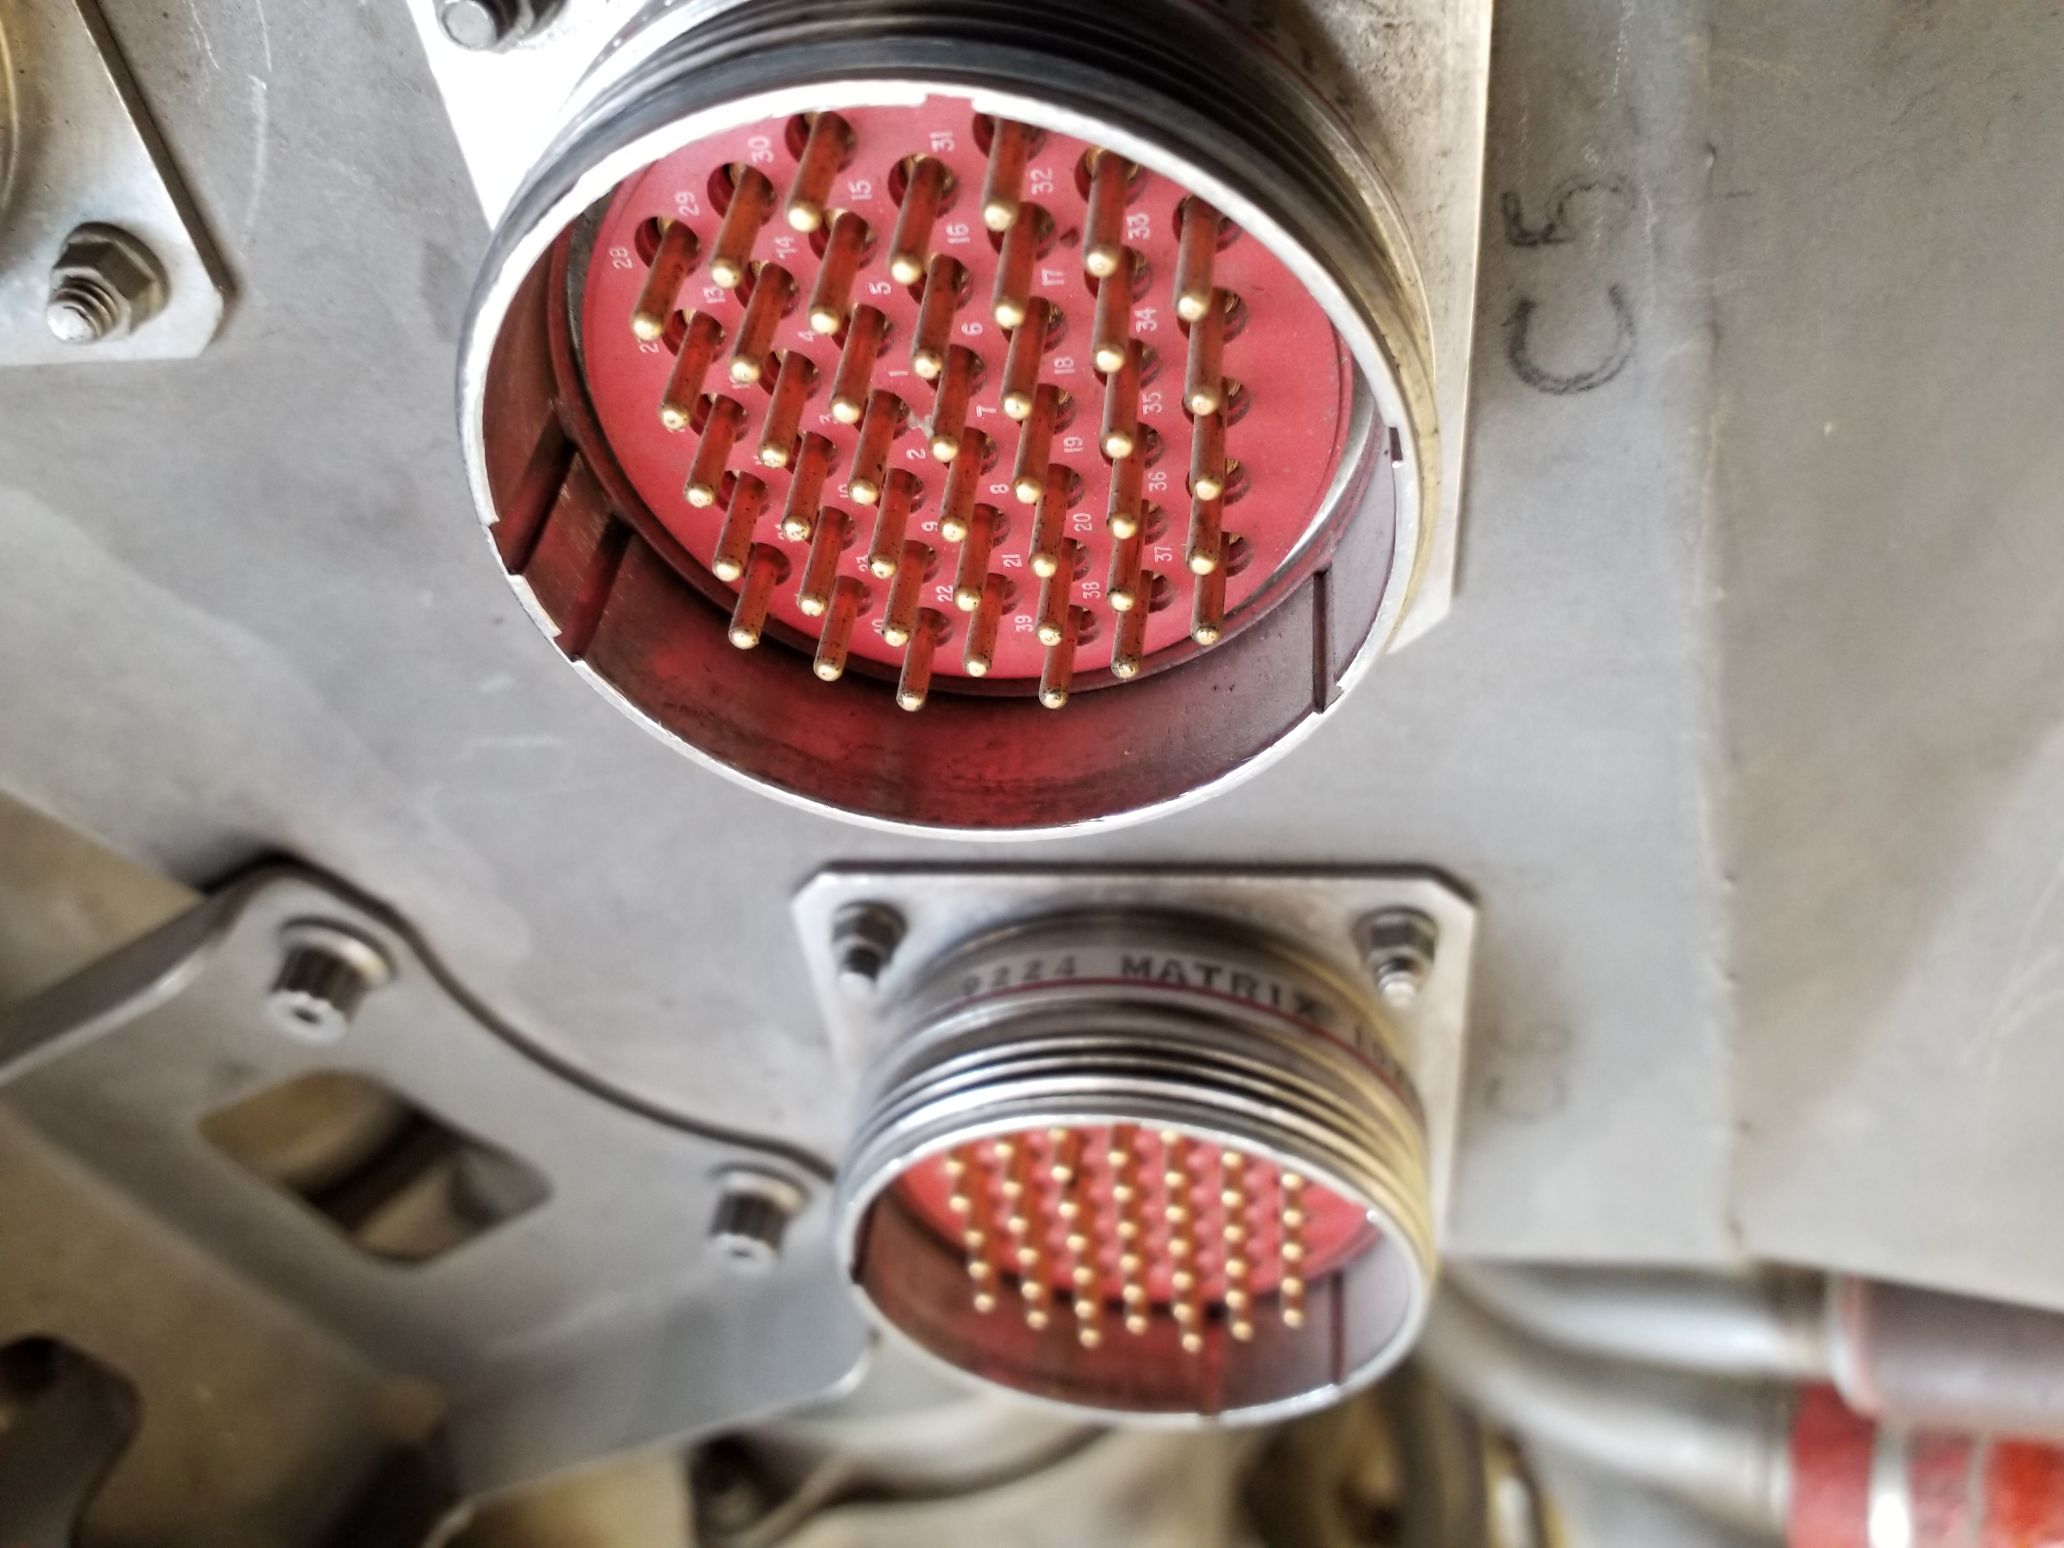outlet: (457, 41, 1429, 841), (839, 1042, 1429, 1428)
